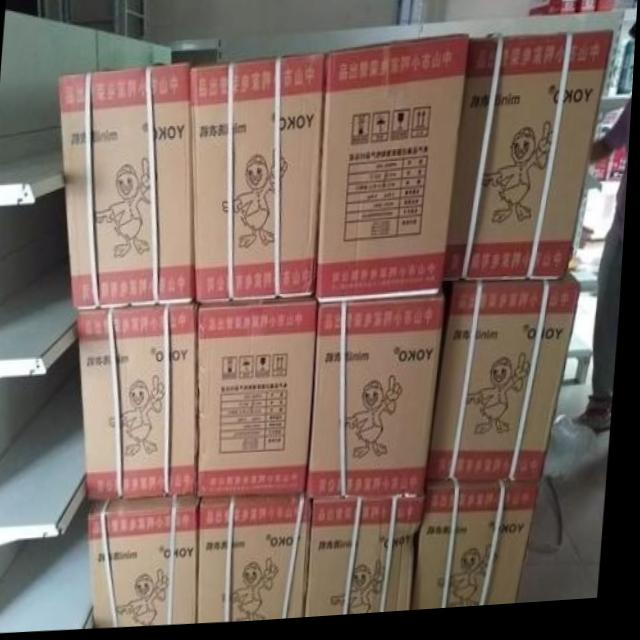box: (445, 38, 613, 286), (318, 39, 469, 307), (58, 64, 198, 309), (191, 58, 326, 306), (431, 279, 585, 490), (311, 294, 448, 503), (80, 304, 204, 504), (203, 300, 323, 500), (418, 484, 546, 617), (94, 495, 208, 630), (203, 496, 319, 626), (311, 503, 430, 622), (528, 0, 579, 24), (575, 0, 599, 20), (596, 0, 617, 20)
